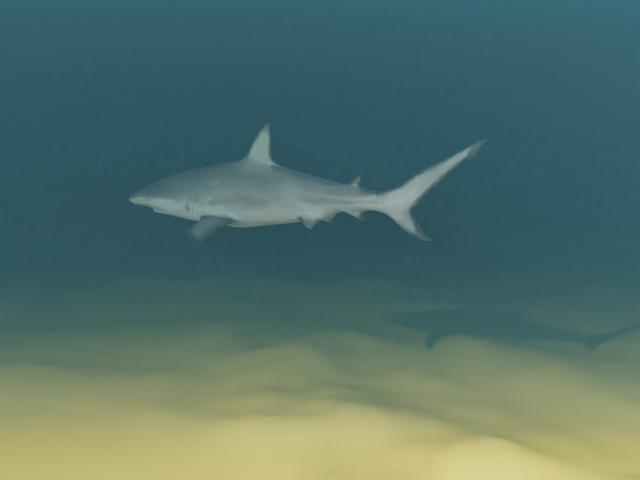Carribean Shark.001: (129, 123, 487, 246)
